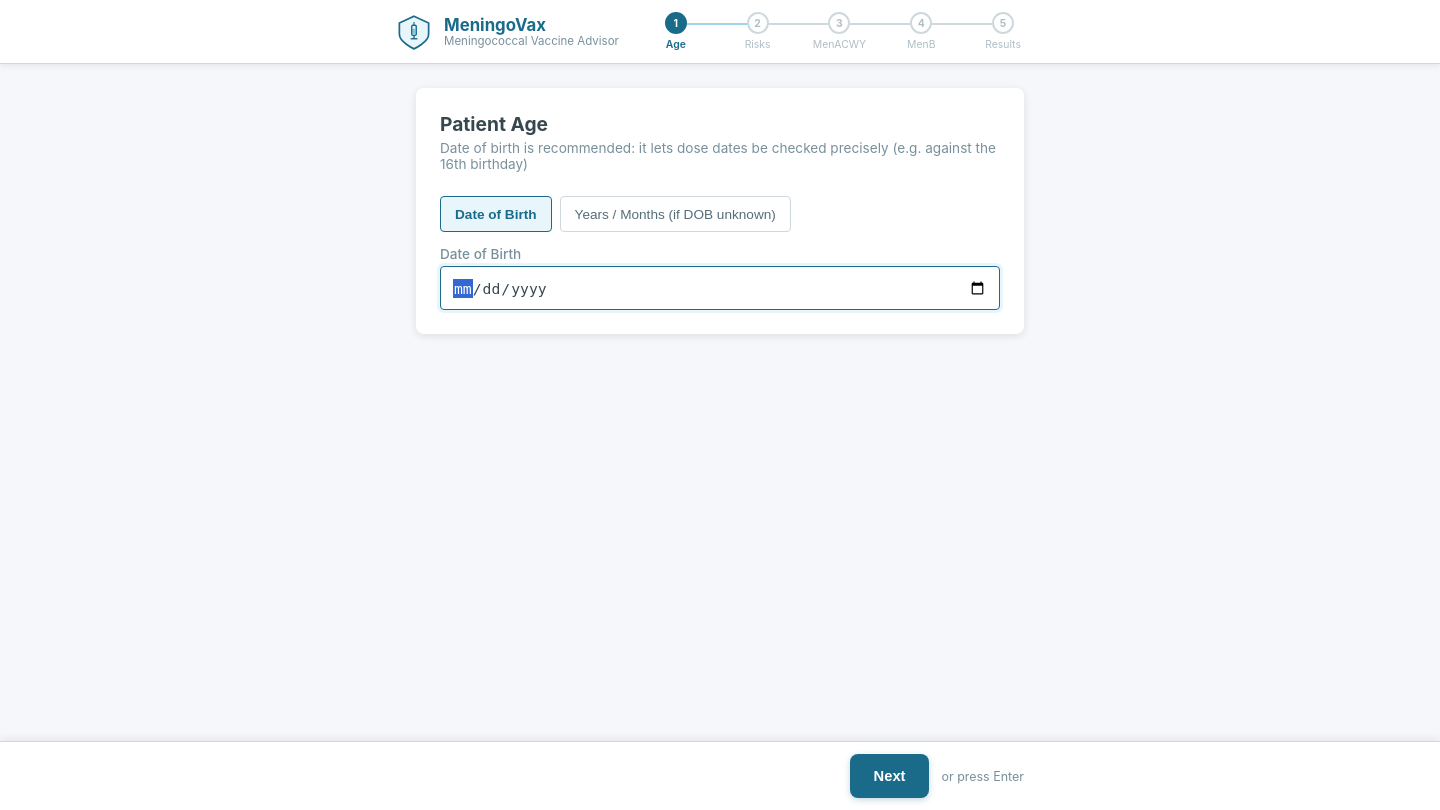
Scenario: impossible P0-1 (UI): a mistyped year is refused, not answered › switching entry mode clears a stale message
Type "0026-02-02" into the date field labelled "Date of Birth".
click(720, 288); type("0026-02-02")  # box [440,266,1000,310]
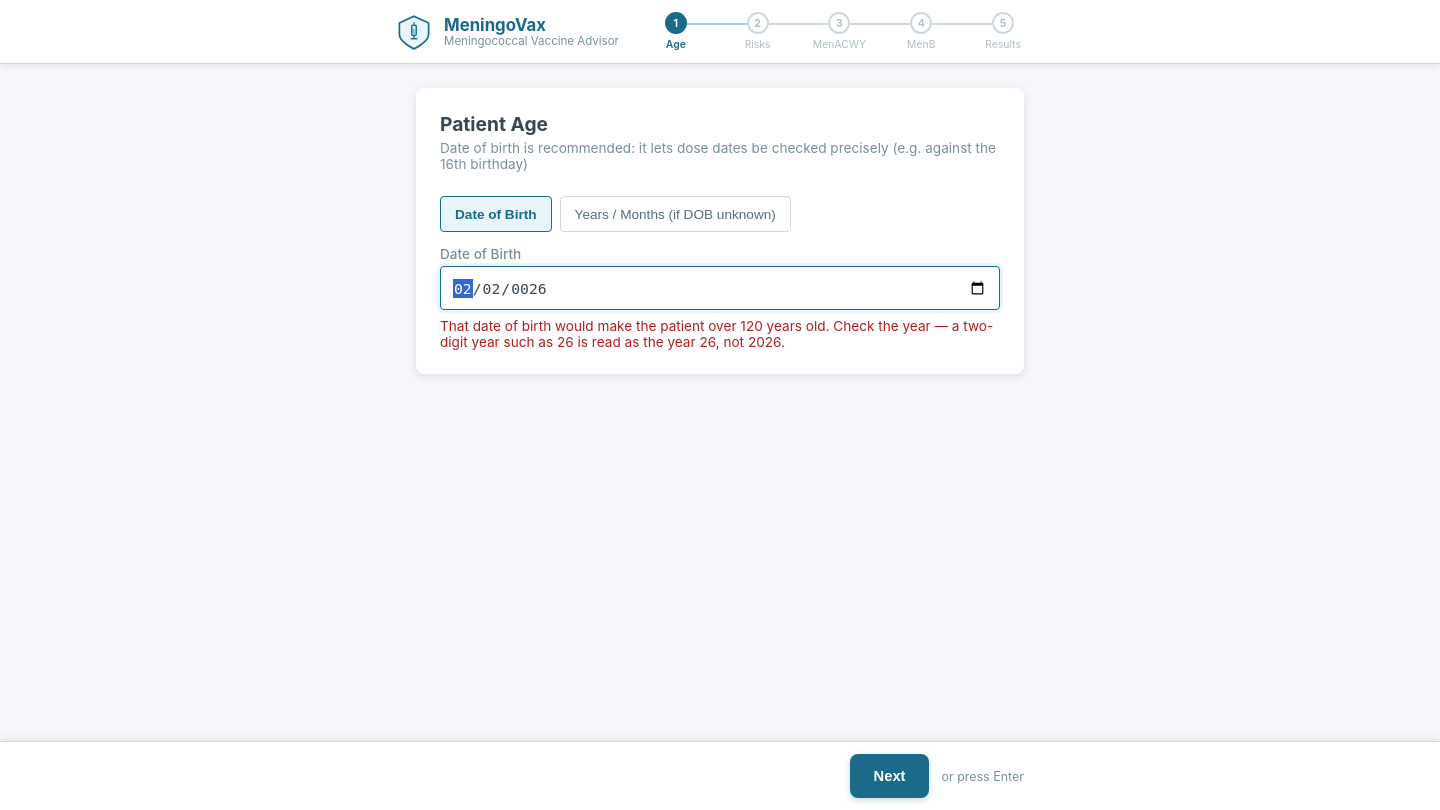
Expected: the text "Check the year" is shown, [440,318,993,350]
Click the button "Years / Months (if DOB unknown)".
click(675, 214)  # box [560,196,791,232]
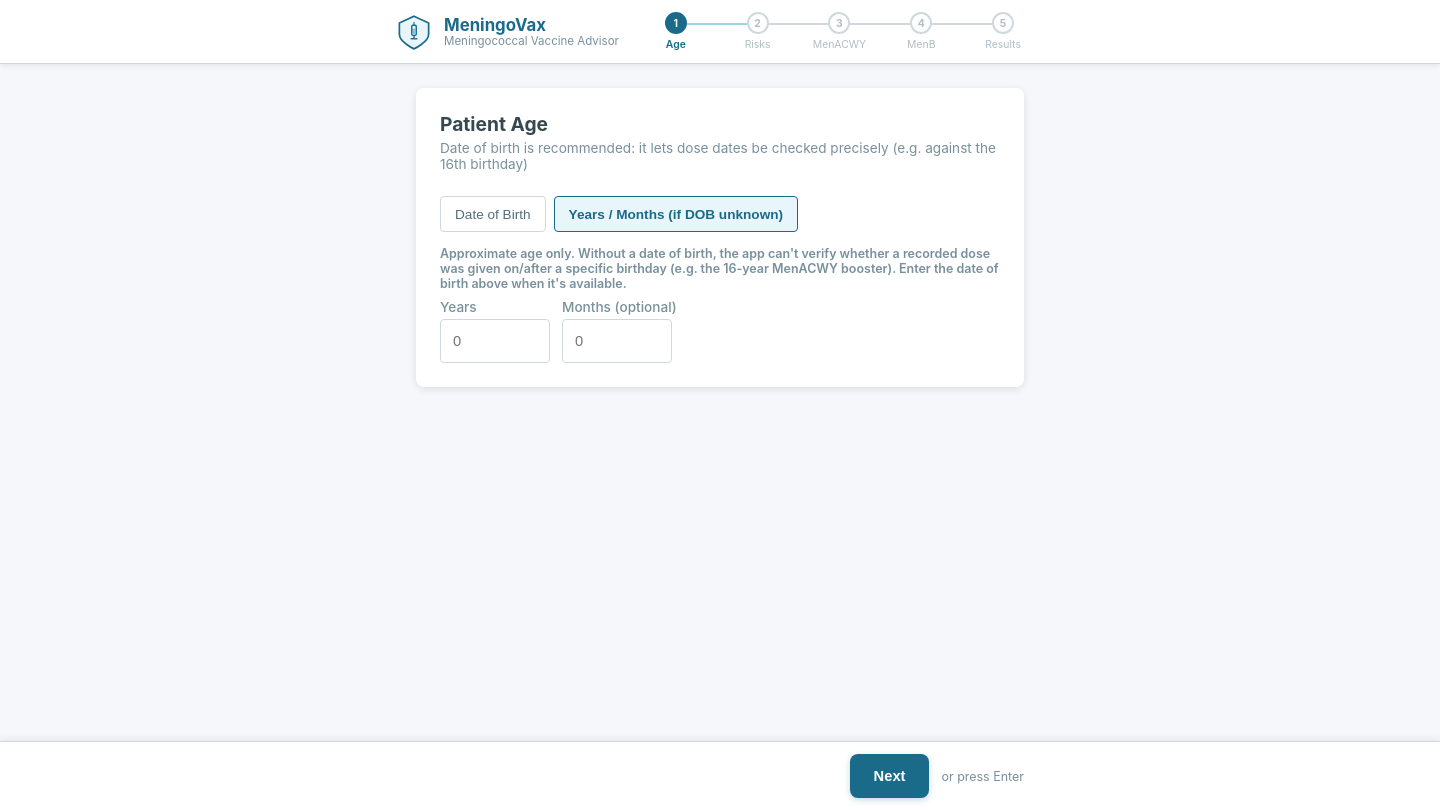
Expected: the text "Check the year" is gone
